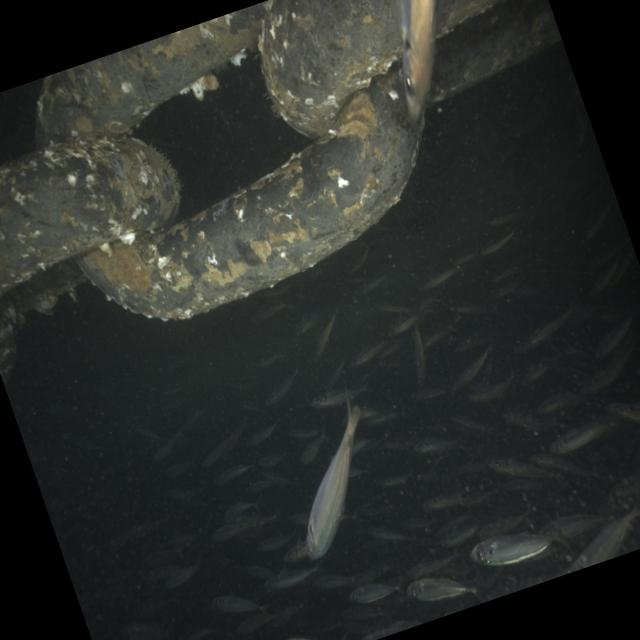ChainLink: (77, 70, 423, 320), (35, 3, 267, 147), (0, 139, 179, 297), (258, 0, 403, 136), (428, 0, 561, 103), (7, 257, 87, 313), (0, 298, 16, 384)
